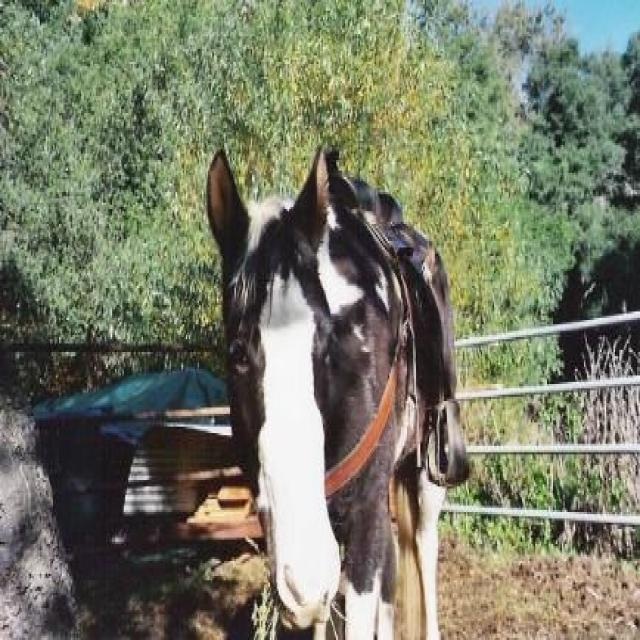horse: (204, 146, 470, 639)
